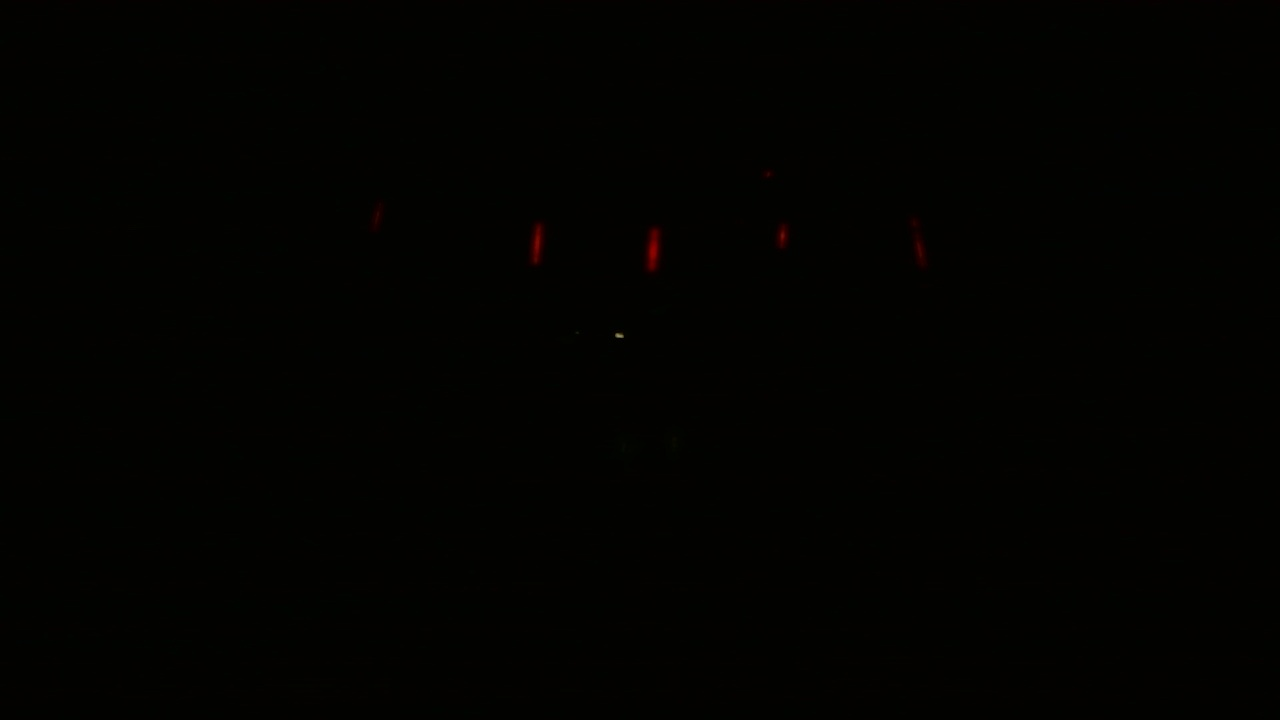pair1: (527, 218, 662, 271)
